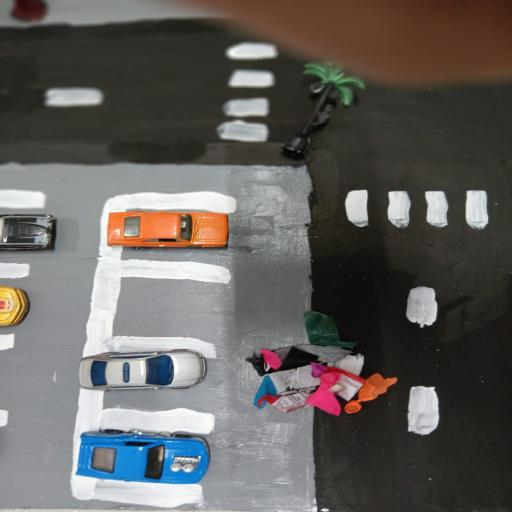fallen trees: (236, 65, 371, 166)
trash: (229, 305, 419, 432)
